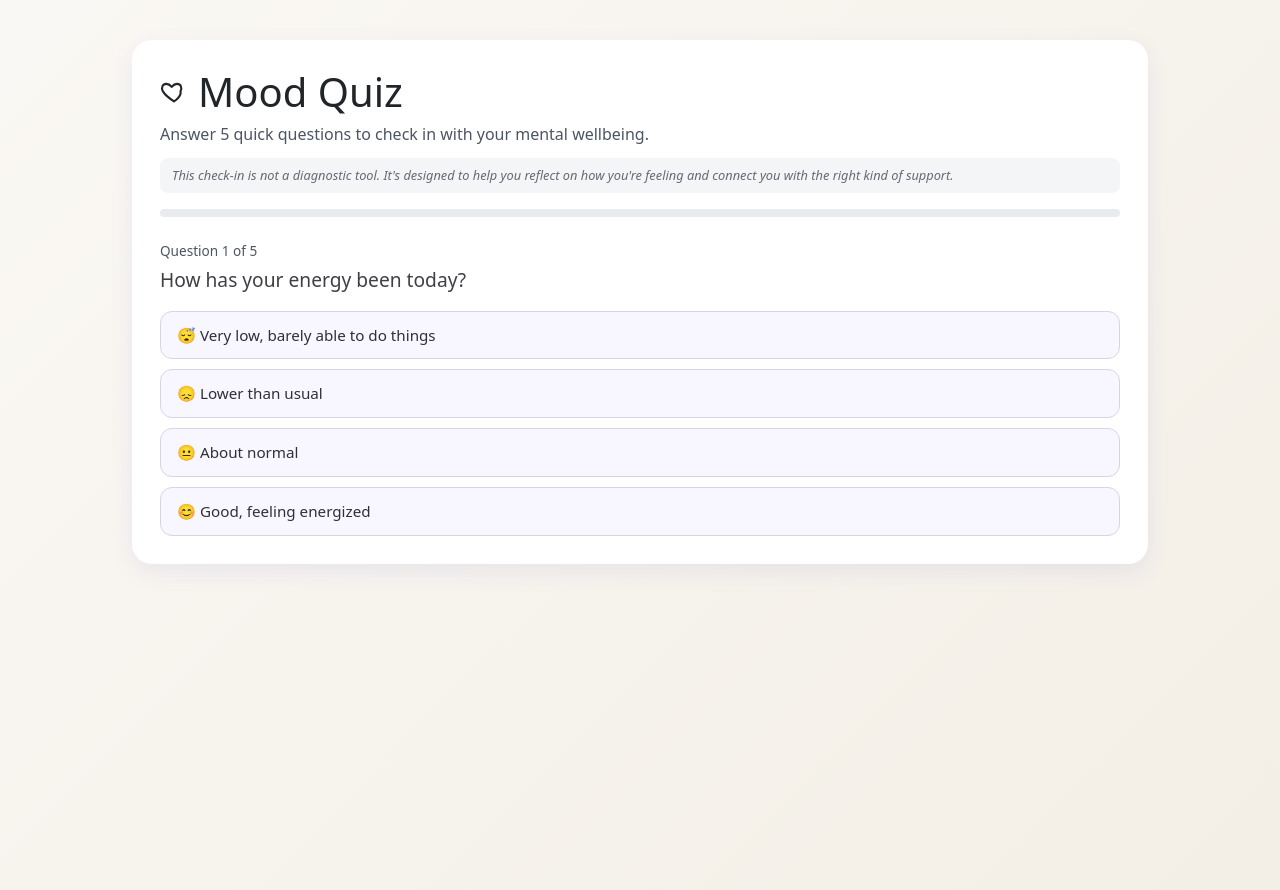
Scenario: MoodChecker quiz completion › persists a mood entry with category scores to localStorage
Click the button "😊 Good, feeling energized": click(274, 511) [160, 487, 1120, 536]
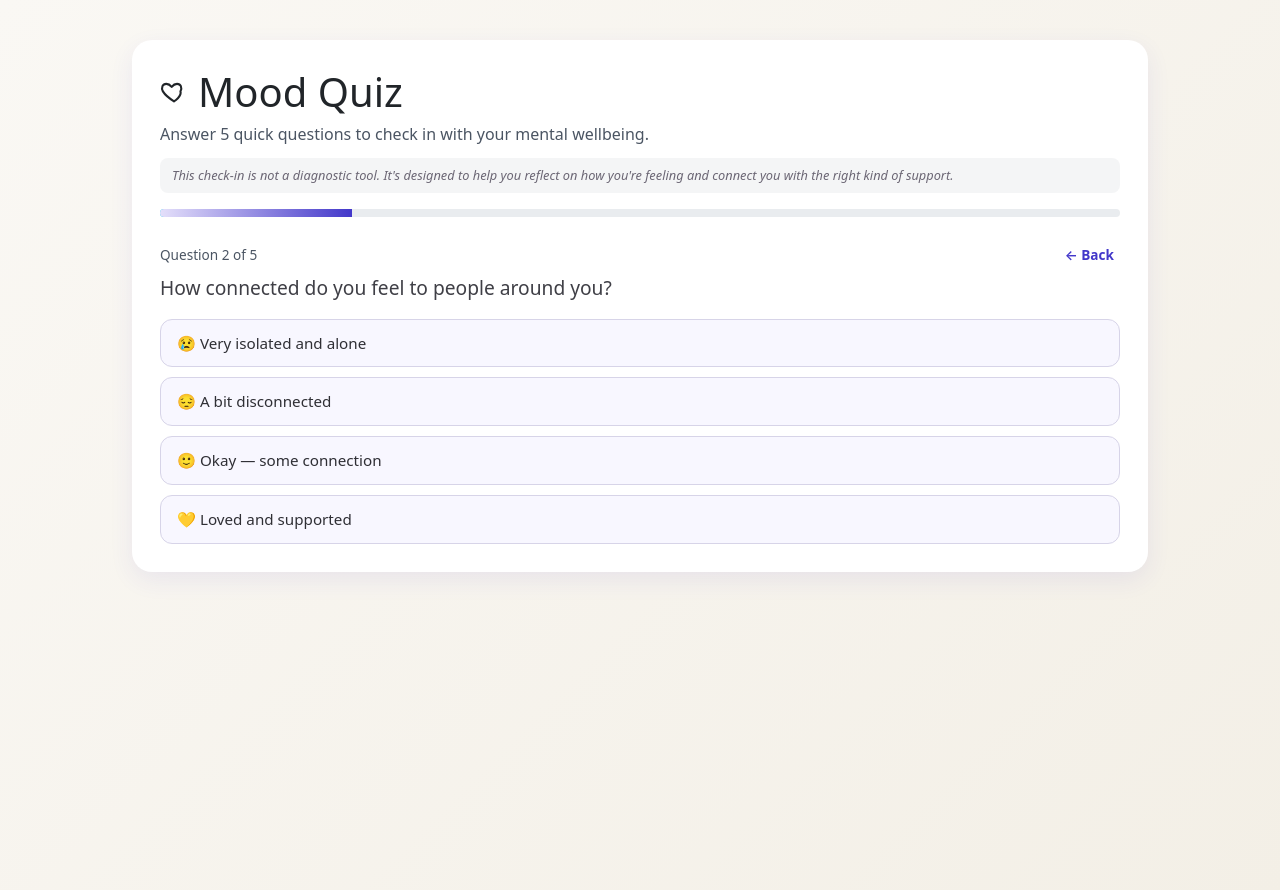
Click the button "💛 Loved and supported": click(264, 519) [160, 495, 1120, 544]
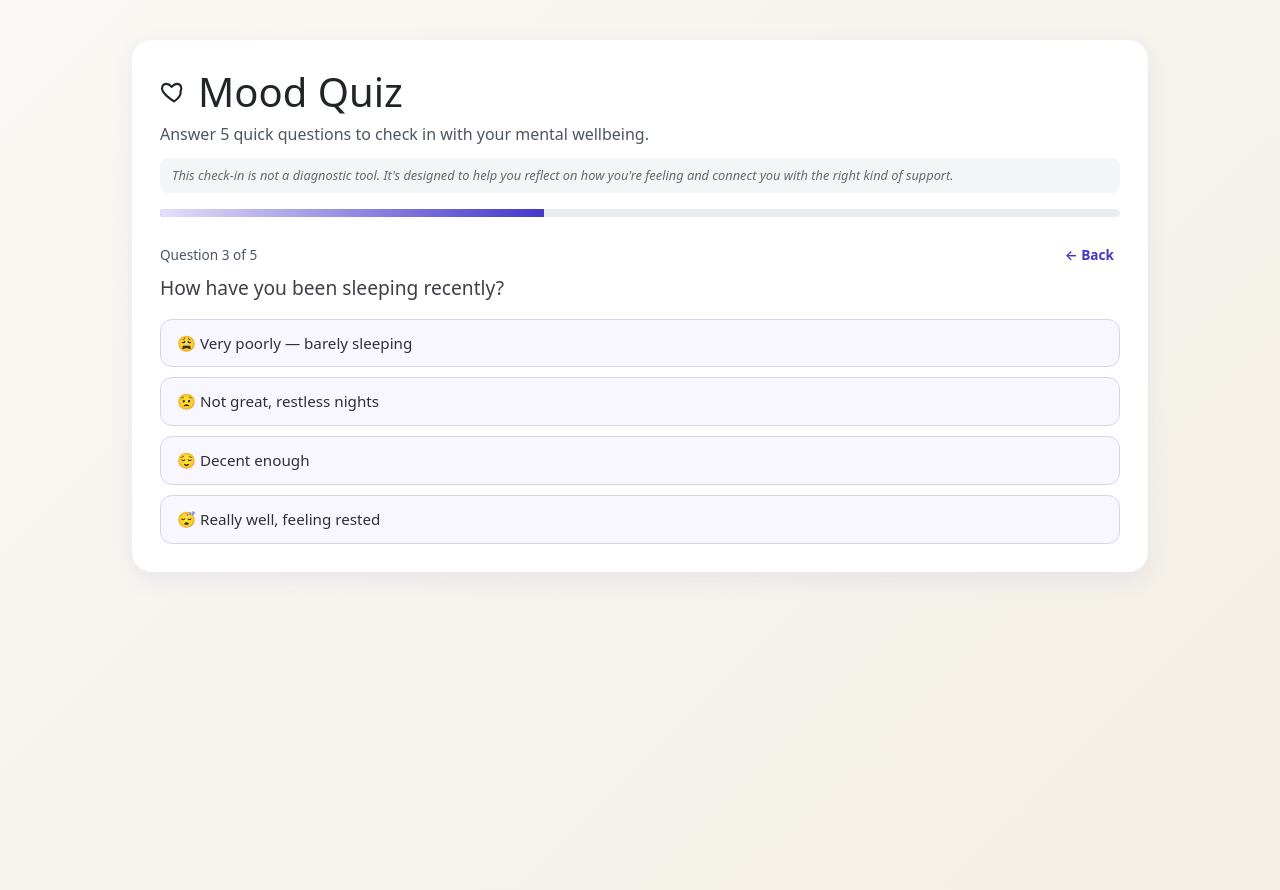
Click the button "😩 Very poorly — barely sleeping": click(295, 343) [160, 319, 1120, 367]
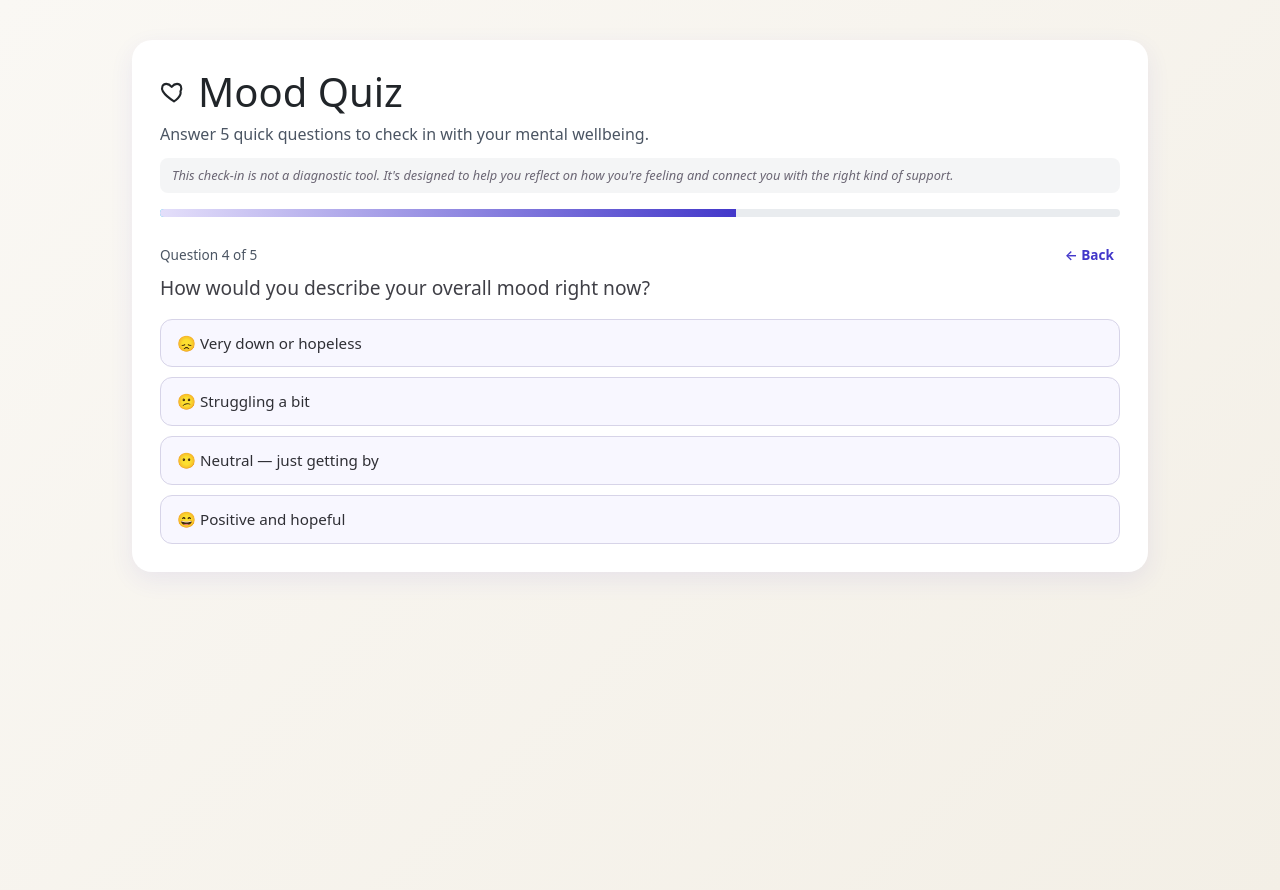
Click the button "😶 Neutral — just getting by": click(278, 460) [160, 436, 1120, 485]
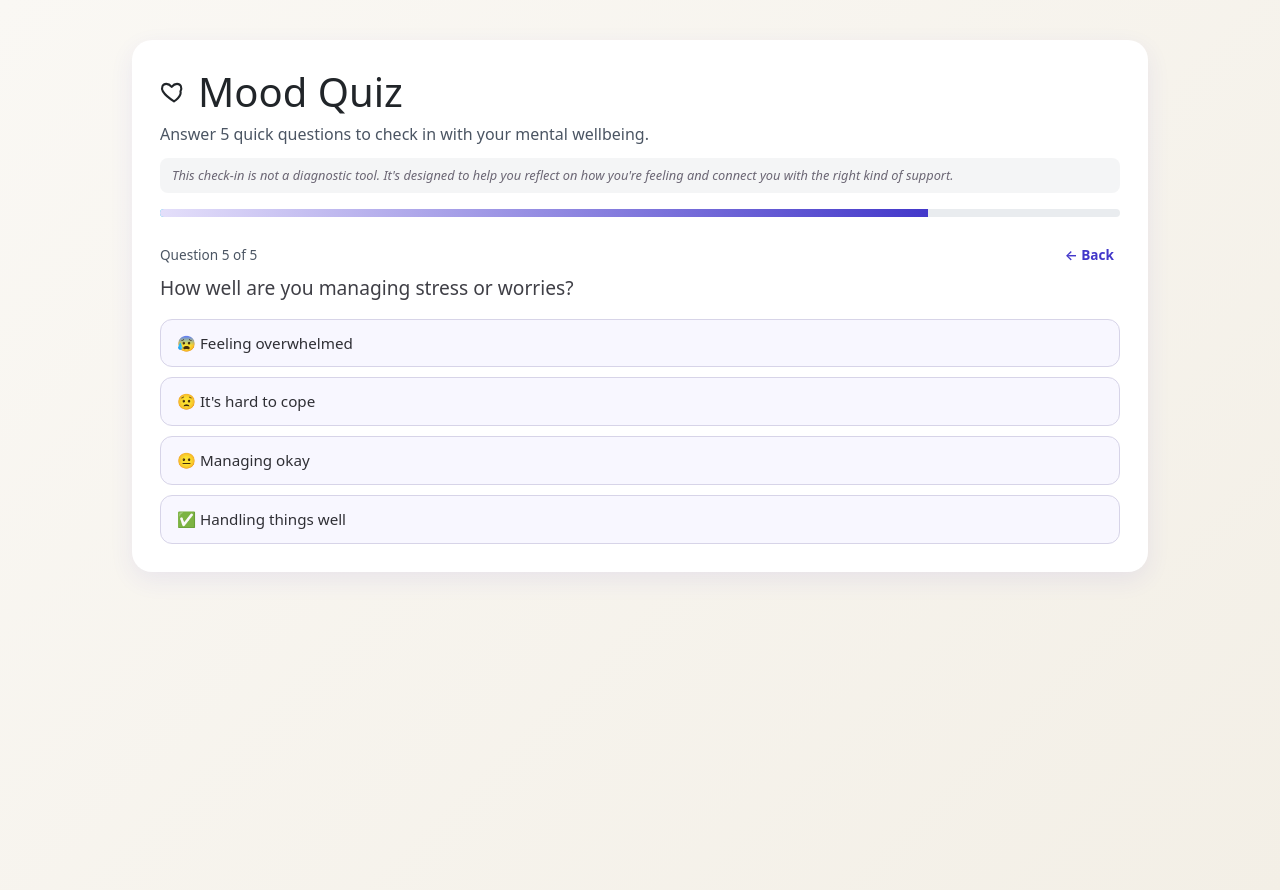
Click the button "😐 Managing okay": click(243, 460) [160, 436, 1120, 485]
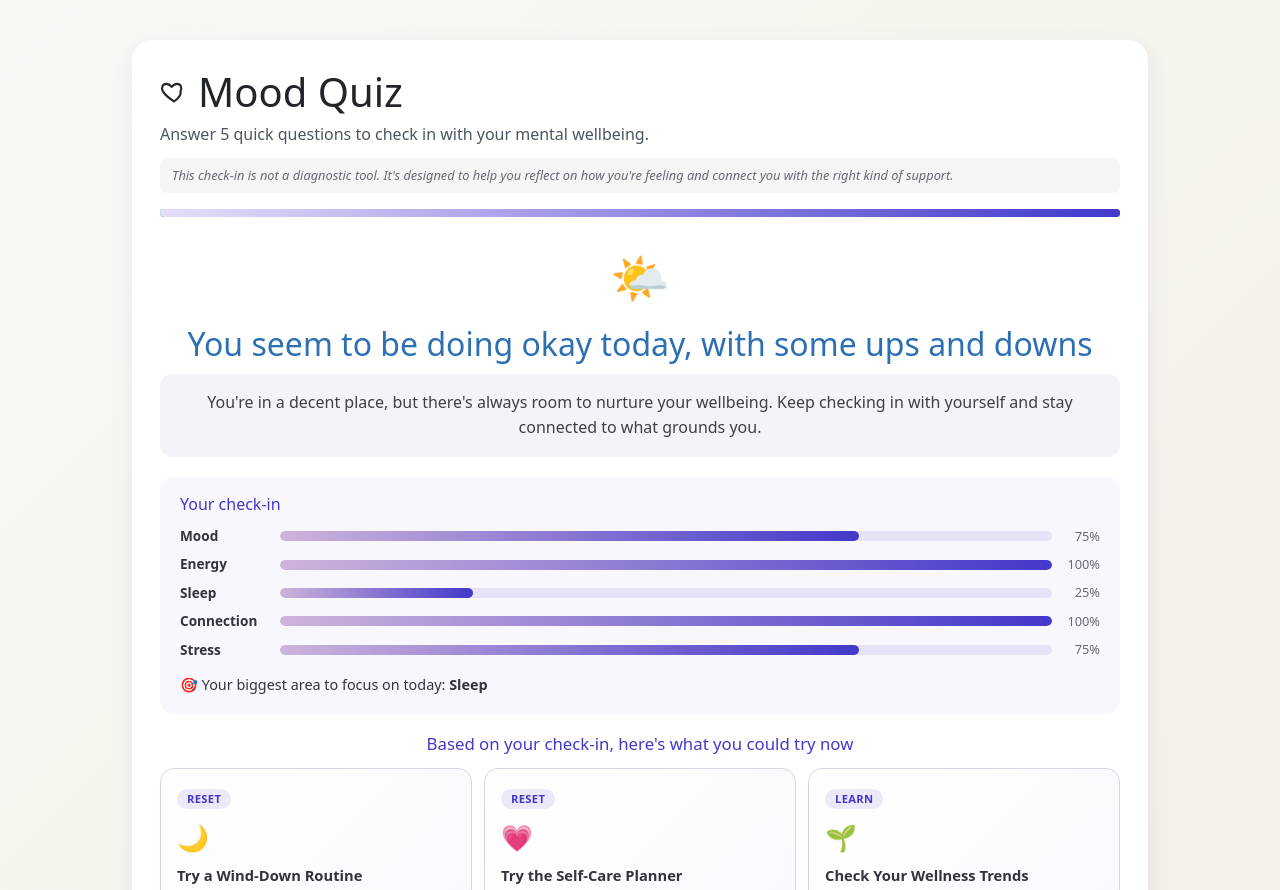
Check: the text "Sleep" in the row of "25" is shown, box [180, 583, 216, 602]
